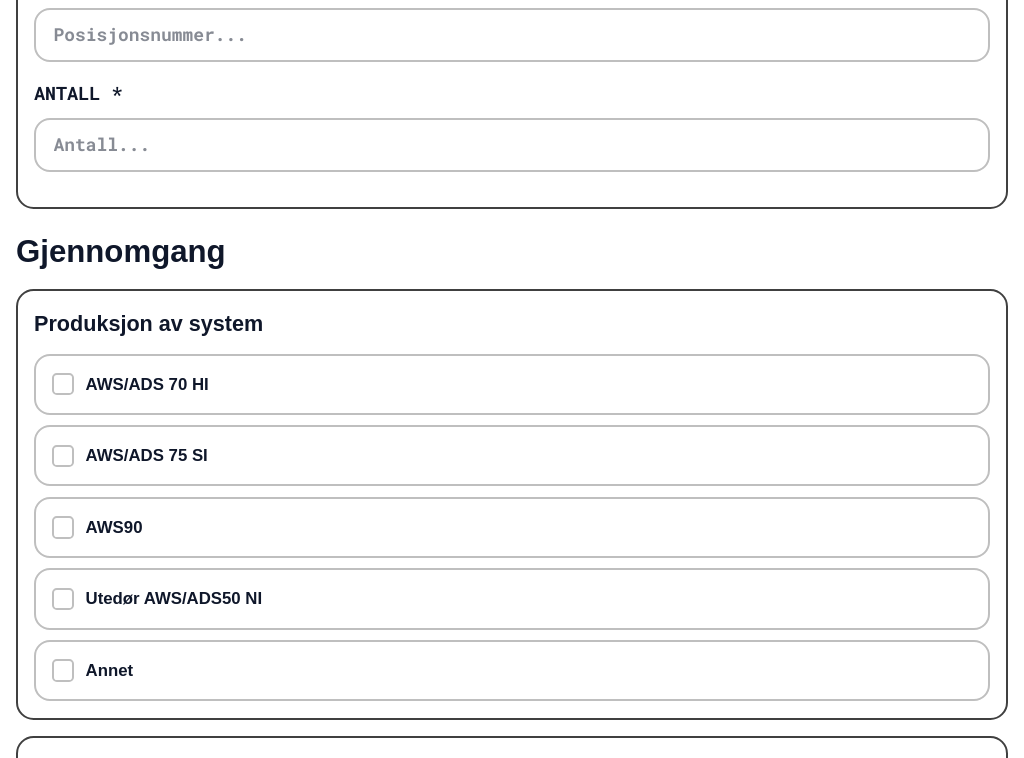
Test: KSFastkammerScreen › renders and updates progress when selecting a system option
The width and height of the screenshot is (1024, 758).
(page scrolled)
Click the button "AWS/ADS 70 HI" at (147, 384), box x1=34 y1=354 x2=990 y2=415
(page scrolled)
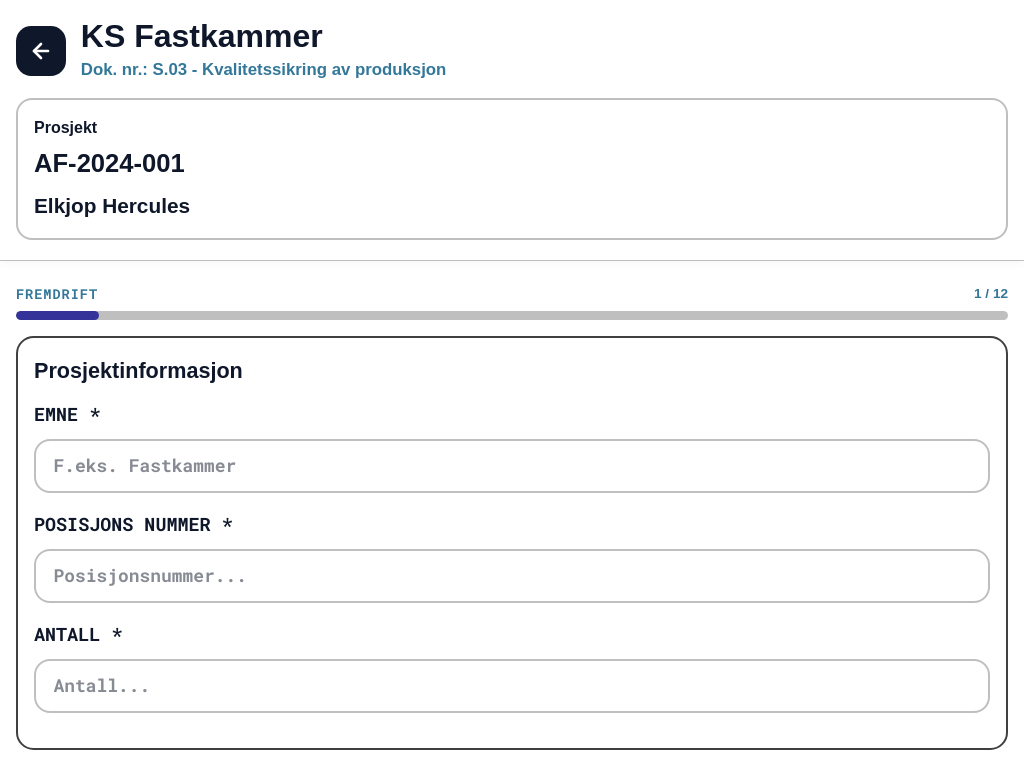
Expected: the text "1 / 12" is shown, x1=974 y1=284 x2=1008 y2=304
